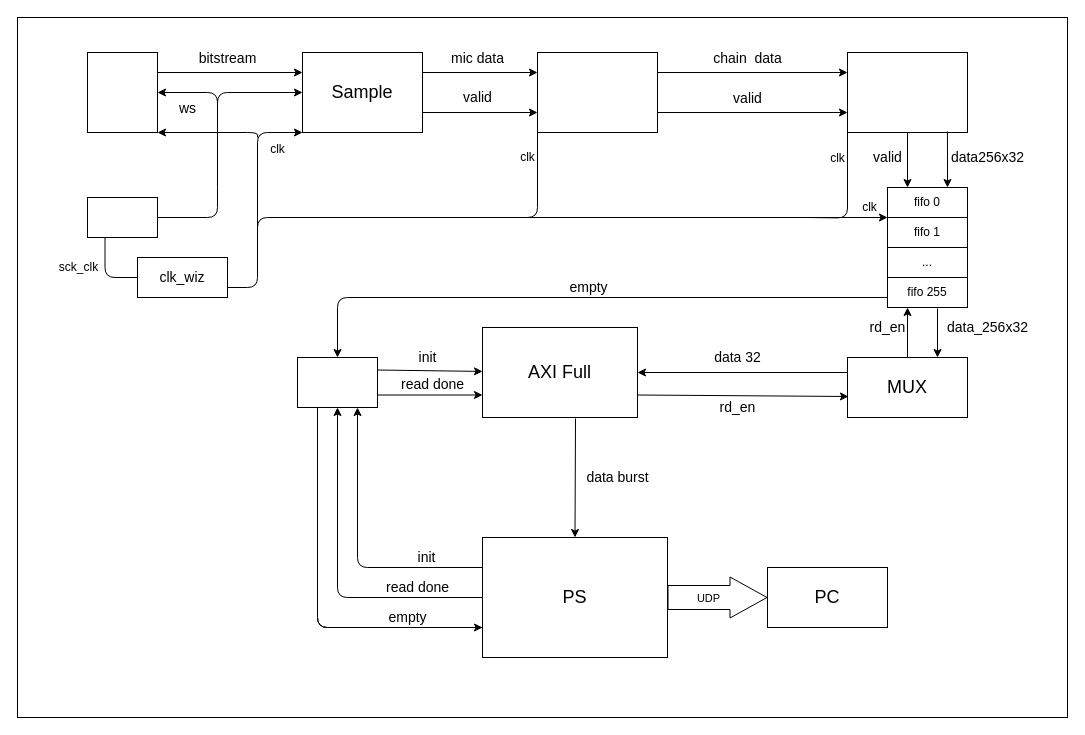
This 1085x735 diagram has some shape labels left out. Each missing label, with the centre of its shape:
"Array" belongs at point (122, 92).
"AXI Lite" belongs at point (337, 382).
"Collector" belongs at point (597, 92).
"Full Sample" belongs at point (907, 92).
"WS-pulse" belongs at point (122, 217).
